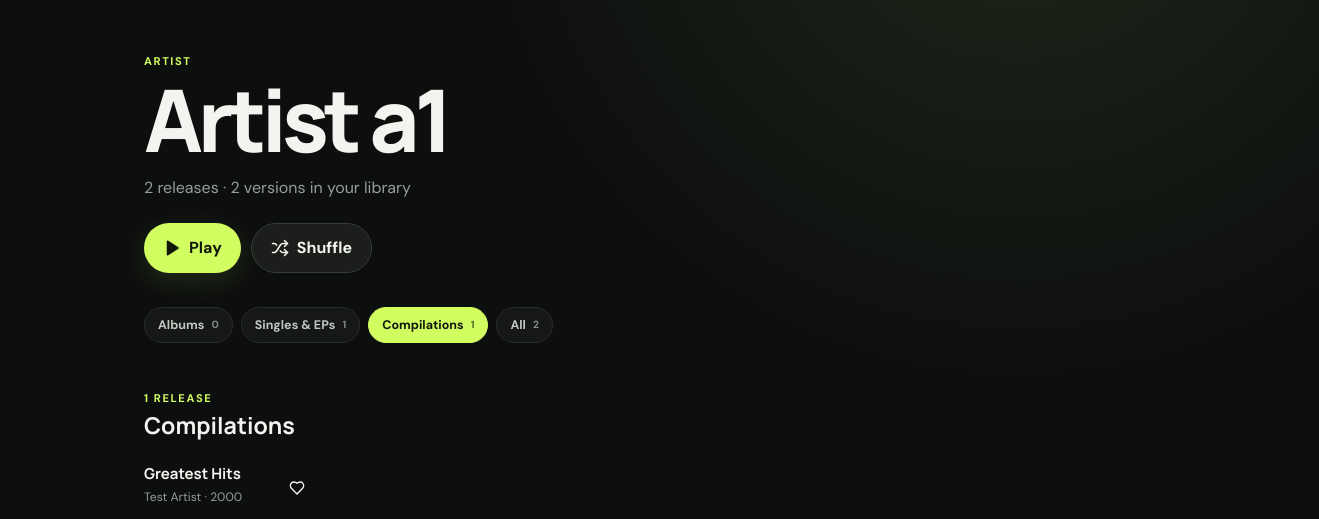
Test case: ArtistDetail default release tab › opens on Compilations when there are no albums
The image size is (1319, 519).
Expected: the heading "Greatest Hits" is shown, [144,463,241,484]
Picking the empty Albums tab still works, and is kept in the URL.
Click the button "Albums 0".
click(188, 325)  # box [144,307,233,343]
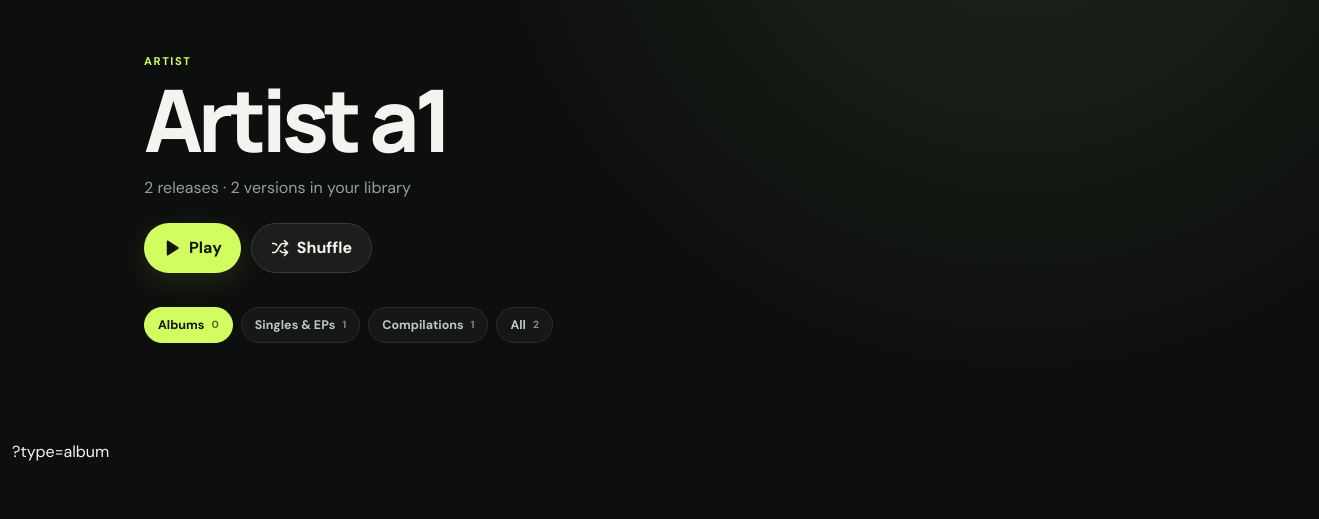
Result: the text with test id "search" reads "?type=album" at [12,441,109,462]
